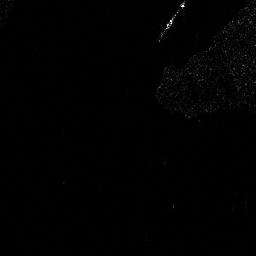ship: (164, 2, 186, 31)
